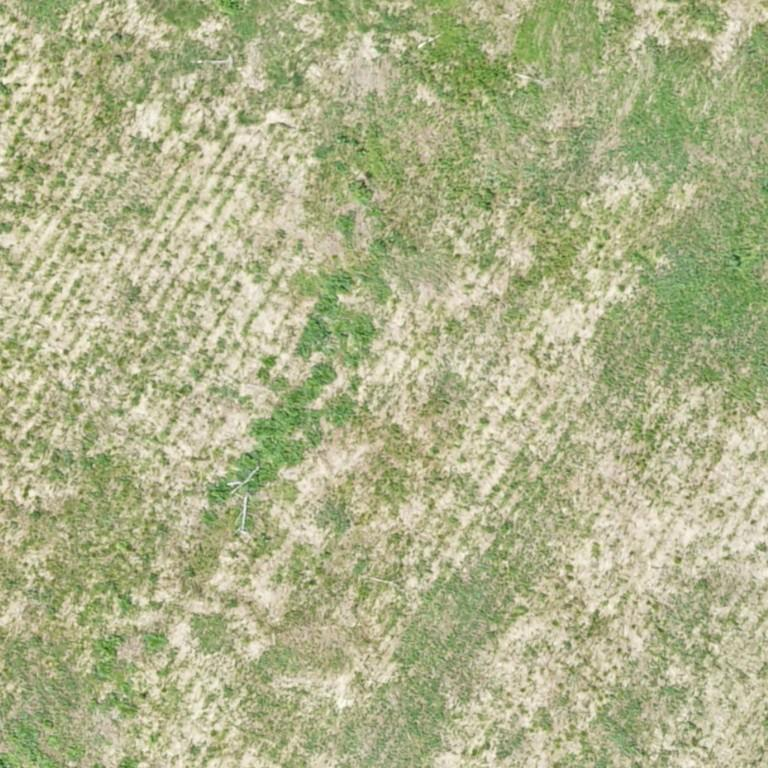hogweed: (235, 270, 375, 491), (93, 634, 122, 664)
